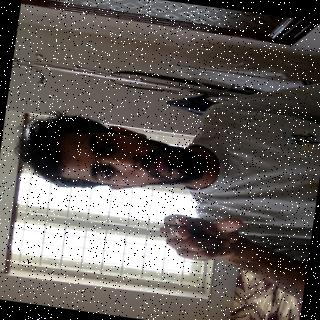No: (140, 178, 275, 282)
